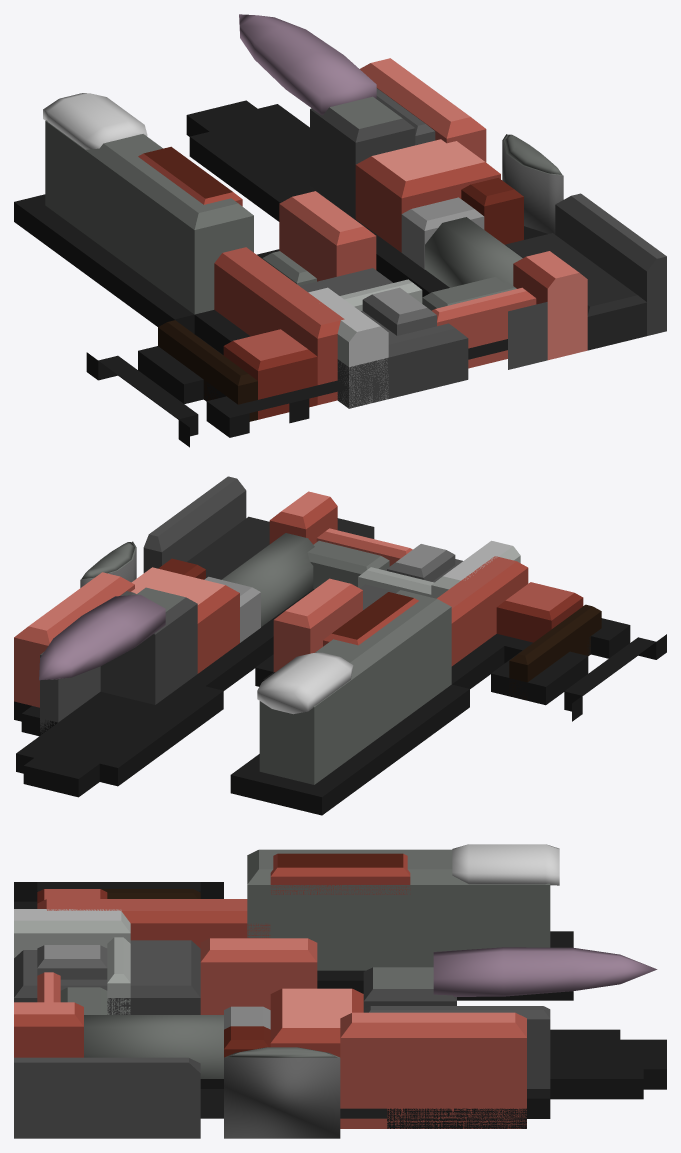
The model's file is newshu-3.glb.
The picture shows the model from 3 angles, top to bottom: view 1: azimuth 30°, elevation 25°; view 2: azimuth 150°, elevation 25°; view 3: azimuth 270°, elevation 25°; orthographic projection. The views are drawn at different scales.
Visible parts, largest first — view 1: newshu-3; view 2: newshu-3; view 3: newshu-3.
Part boxes in pixels (<box>): newshu-3: <box>14,14,666,447</box>; newshu-3: <box>14,476,666,815</box>; newshu-3: <box>14,844,666,1138</box>.
Bounding box in the file's own units: 2 × 0.52 × 2.33.
